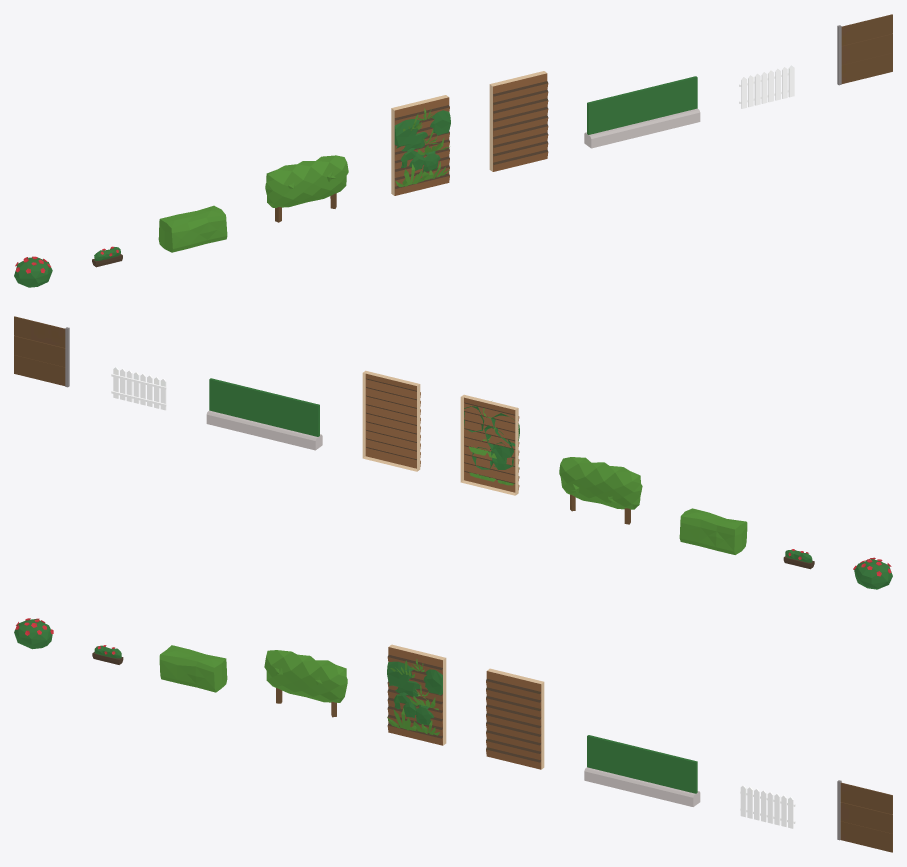
Rendered from fences.glb.
3 views of the same model, one above another, from view 1: azimuth 30°, elevation 25°; view 2: azimuth 150°, elevation 25°; view 3: azimuth 330°, elevation 25° (orthographic).
Visible parts, largest first — view 1: fence-stone-metal, house-wall-wood-2x3m, house-wall-wood-green-2x3m.001, fence-vineyard, fence-big, fence-shrub, fence-picket, shrub-flowers; view 2: fence-stone-metal, house-wall-wood-green-2x3m.001, house-wall-wood-2x3m, fence-vineyard, fence-big, fence-shrub, fence-picket, shrub-flowers; view 3: fence-stone-metal, house-wall-wood-green-2x3m.001, house-wall-wood-2x3m, fence-vineyard, fence-big, fence-shrub, fence-picket, shrub-flowers.
Part boxes in pixels (<box>): fence-stone-metal: <box>584,76,700,148</box>; house-wall-wood-2x3m: <box>489,71,548,171</box>; house-wall-wood-green-2x3m.001: <box>391,95,450,195</box>; fence-vineyard: <box>265,155,348,222</box>; fence-big: <box>837,14,892,85</box>; fence-shrub: <box>158,205,227,252</box>; fence-picket: <box>739,65,794,108</box>; shrub-flowers: <box>14,256,52,287</box>; fence-stone-metal: <box>206,378,322,450</box>; house-wall-wood-green-2x3m.001: <box>460,394,519,495</box>; house-wall-wood-2x3m: <box>362,370,420,471</box>; fence-vineyard: <box>559,457,642,524</box>; fence-big: <box>14,316,69,387</box>; fence-shrub: <box>679,508,747,554</box>; fence-picket: <box>111,367,166,410</box>; shrub-flowers: <box>853,557,892,589</box>; fence-stone-metal: <box>584,735,700,806</box>; house-wall-wood-green-2x3m.001: <box>387,644,446,745</box>; house-wall-wood-2x3m: <box>486,668,544,769</box>; fence-vineyard: <box>264,650,347,717</box>; fence-big: <box>837,780,892,852</box>; fence-shrub: <box>159,645,227,692</box>; fence-picket: <box>740,785,795,828</box>; shrub-flowers: <box>14,618,53,649</box>.
Size of the model in its own units: 32.15 by 3.14 by 1.19.
Materials: 1 (1 with a texture image).
